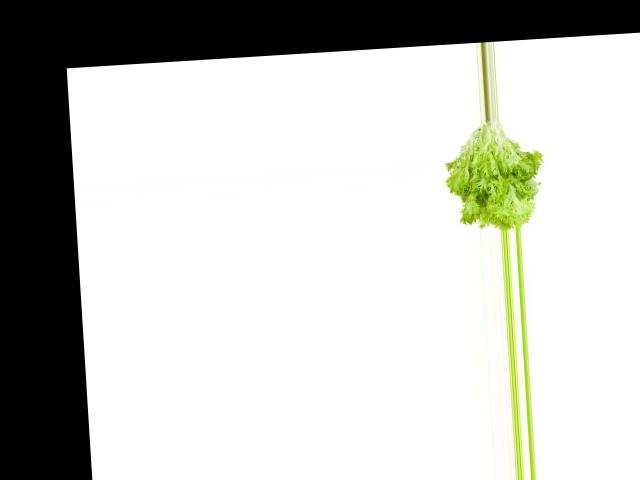lettuce: (437, 115, 548, 233)
